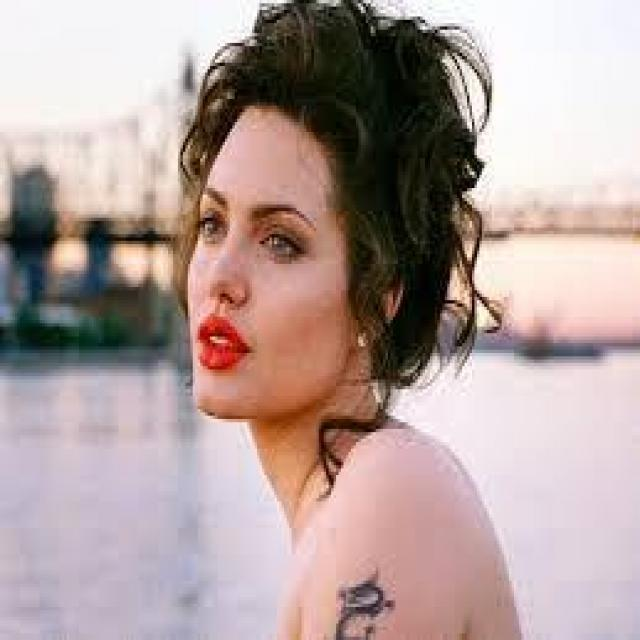person: (158, 0, 544, 637)
